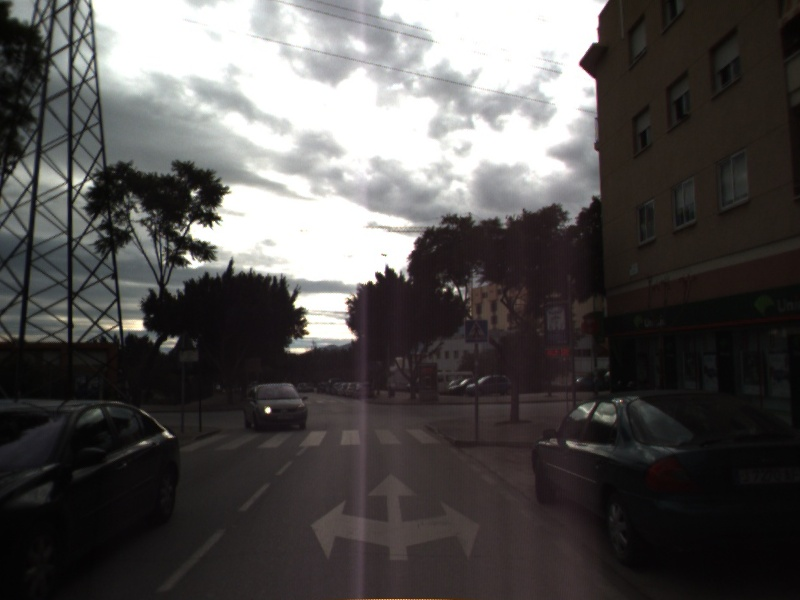STRAIGHT_LEFT_RIGHT: (308, 471, 483, 564)
